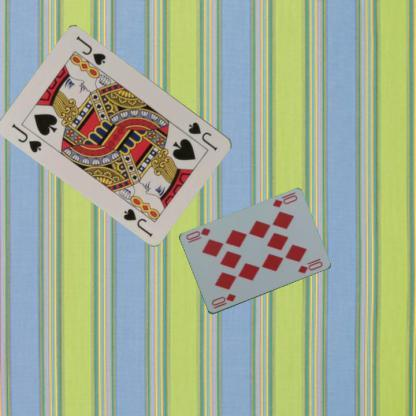10d: (270, 190, 298, 210), (208, 291, 237, 310)
Js: (9, 120, 43, 154), (186, 119, 219, 153)
